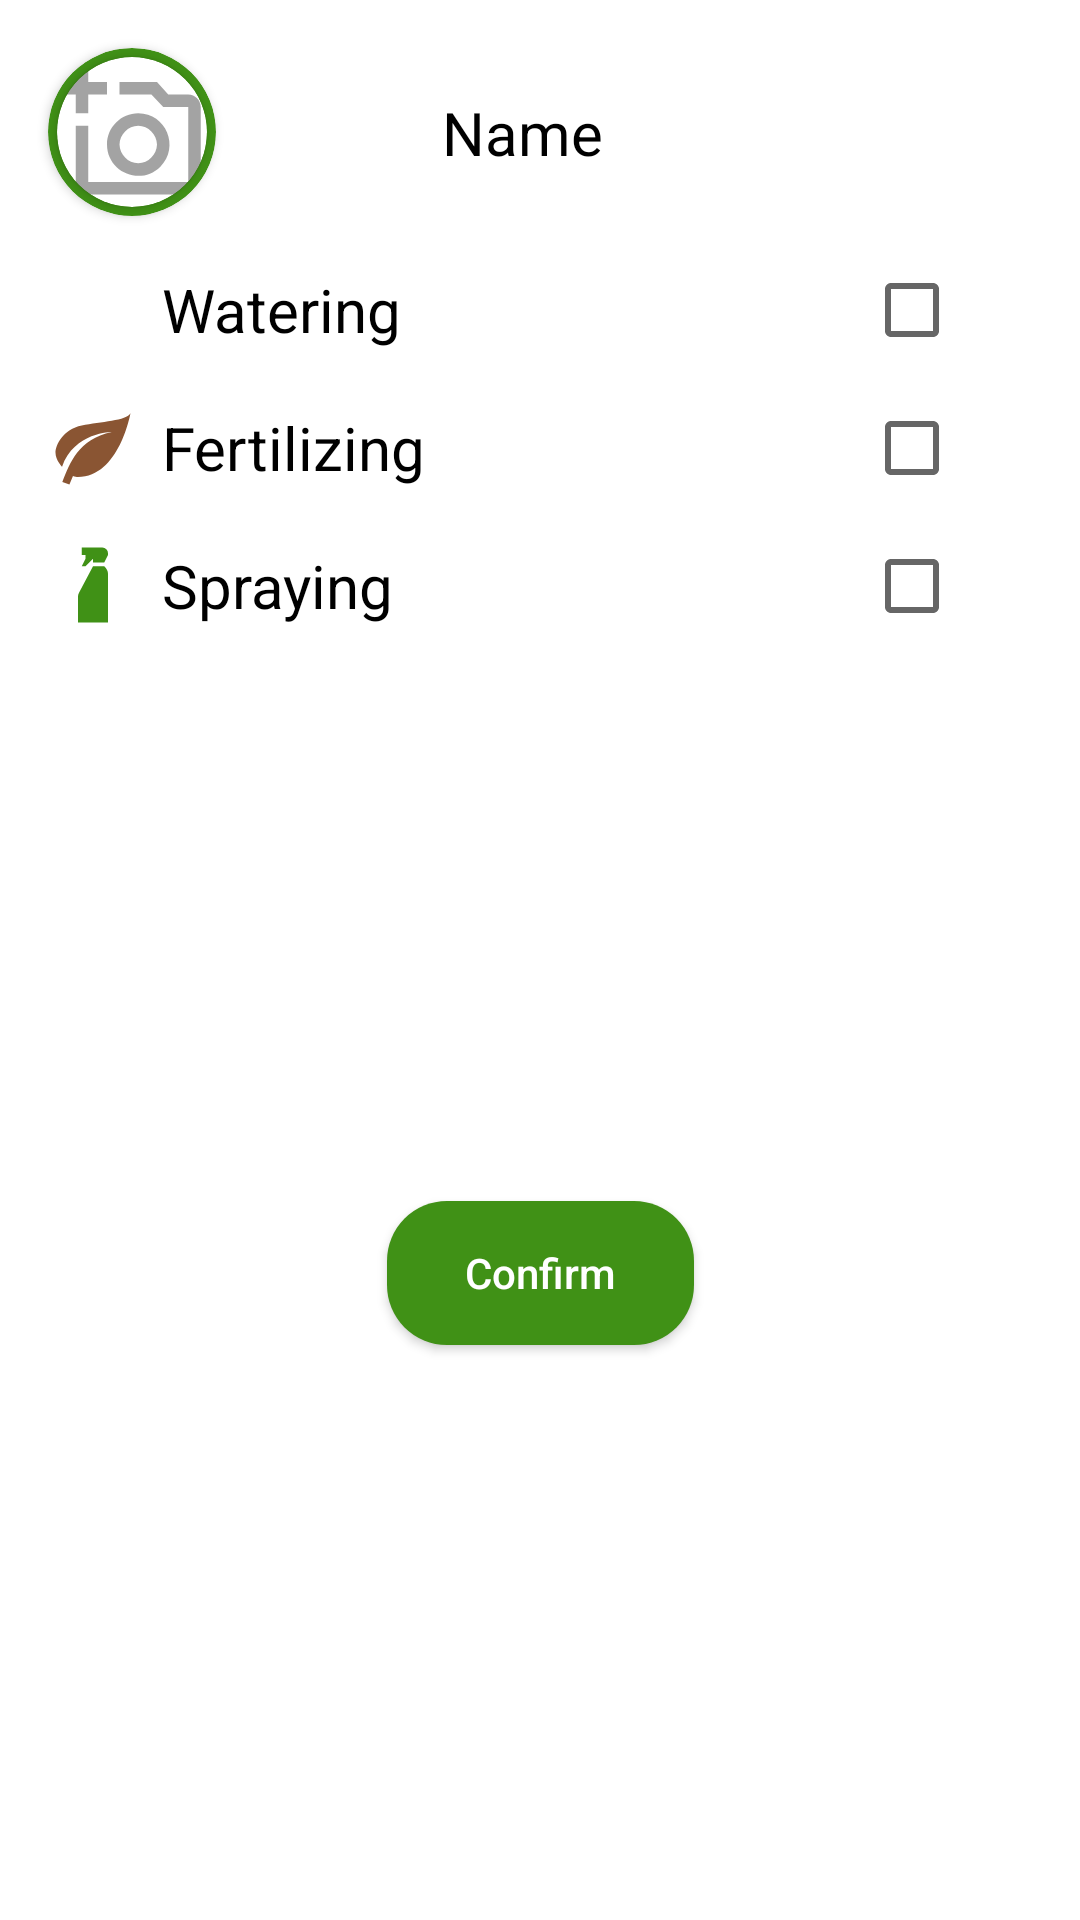

Screen size 1080px x 1920px. Icon name, then its center in pixels as (x,y):
add photo: (132,132)
fertilizer: (93,449)
